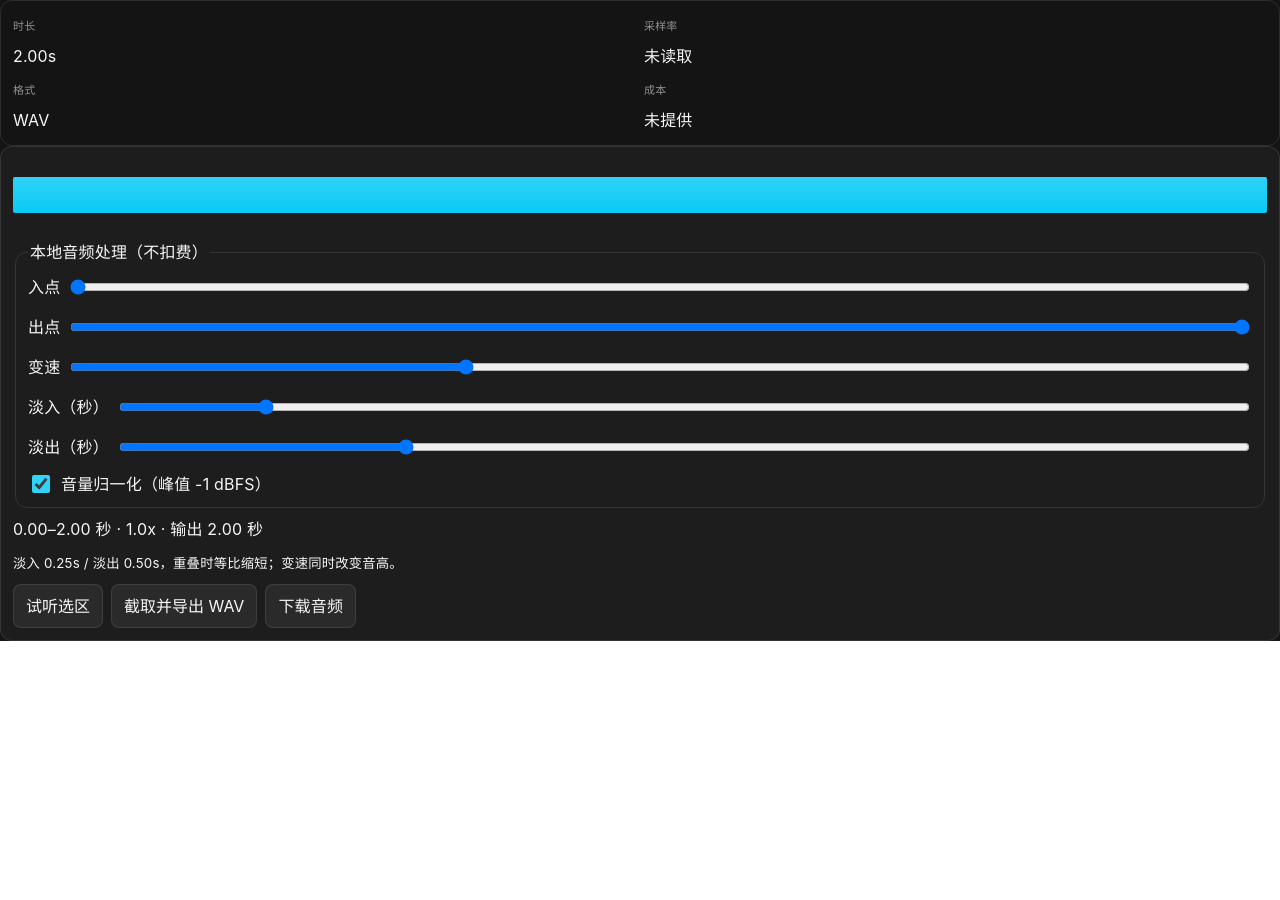
Test: processing failures remain visible and allow retry
The width and height of the screenshot is (1280, 900).
Click the button "截取并导出 WAV" at x=184, y=606, box [111,584,257,628]
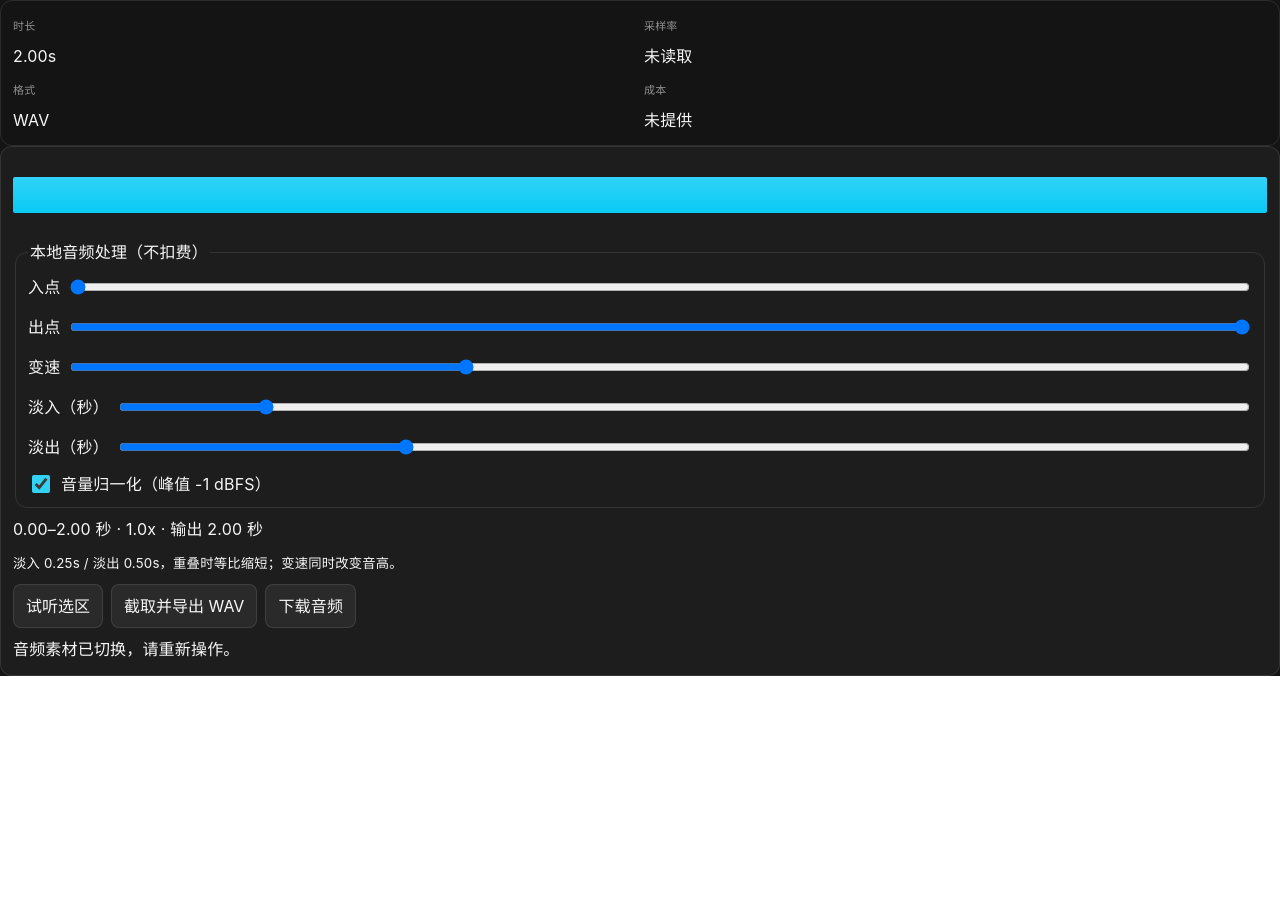
Expected: the text "音频素材已切换，请重新操作。" is shown, [13,639,240,659]
